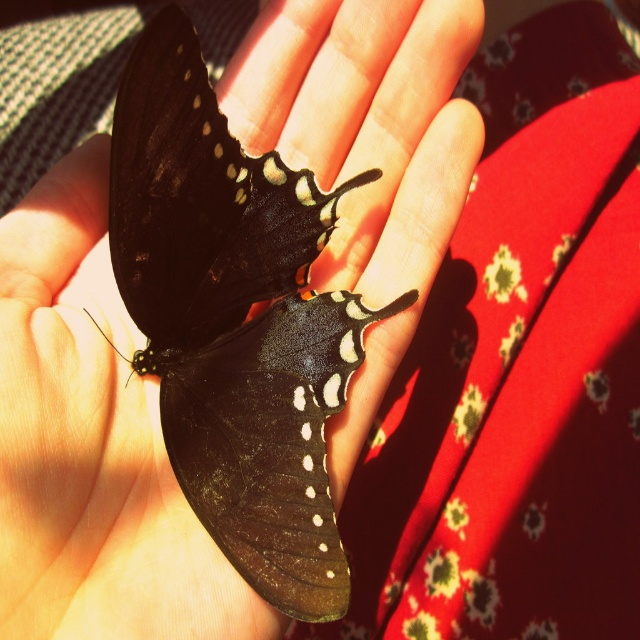Butterfly: (84, 1, 420, 623)
